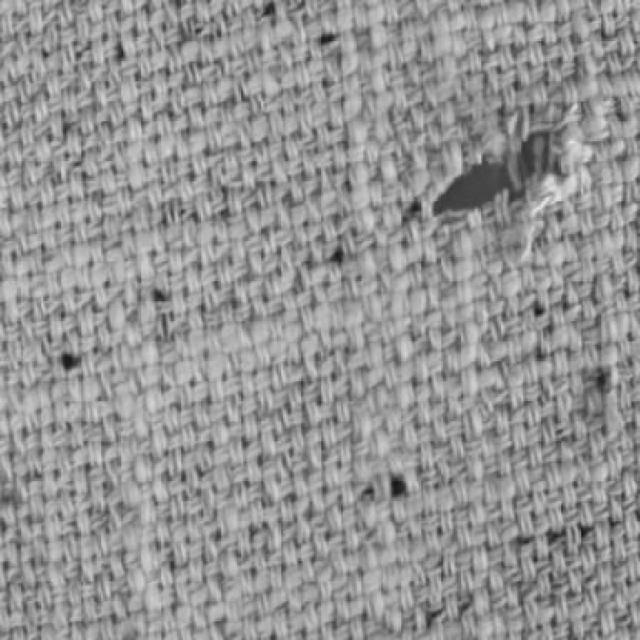other: (412, 114, 570, 236)
